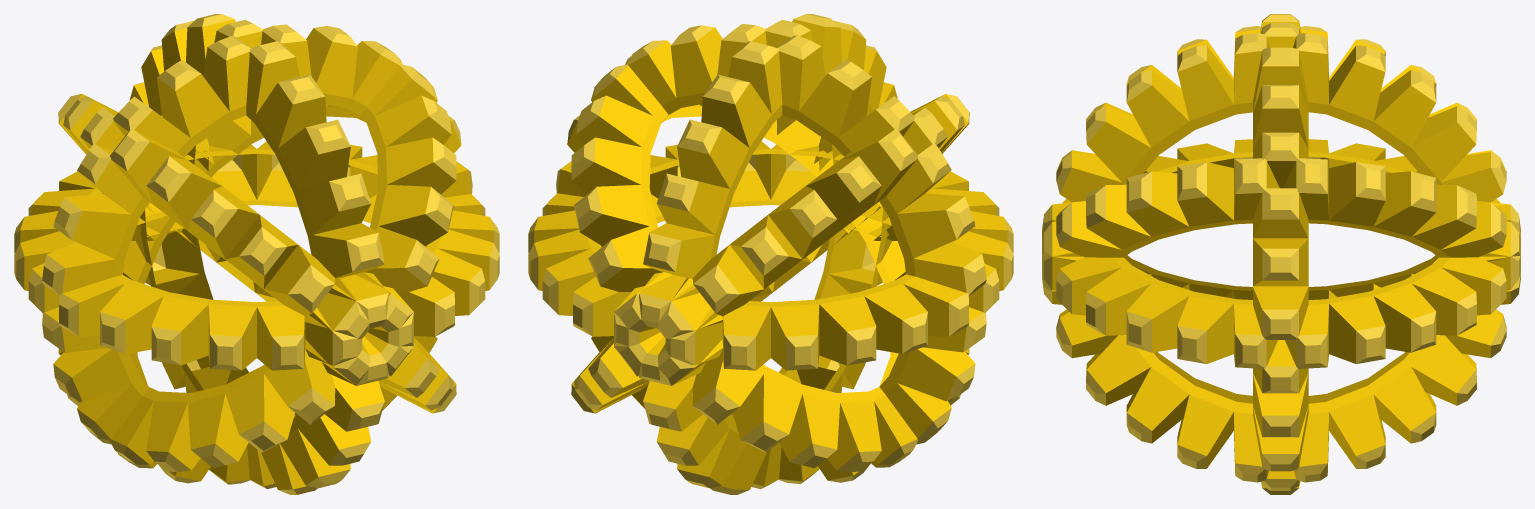
Rendered from Gold.fbx.
The picture shows the model from 3 angles, left to right: view 1: azimuth 30°, elevation 25°; view 2: azimuth 150°, elevation 25°; view 3: azimuth 270°, elevation 25°; orthographic projection.
Visible parts, largest first — view 1: Lv1Gold, Lv2Gold, Lv5Gold, Lv4Gold, Lv3Gold; view 2: Lv1Gold, Lv2Gold, Lv5Gold, Lv4Gold, Lv3Gold; view 3: Lv2Gold, Lv1Gold, Lv5Gold, Lv3Gold, Lv4Gold.
Boxes of the visible parts, box(x1,y1,x2,y2) form: Lv1Gold: box(129, 14, 388, 494); Lv2Gold: box(14, 141, 499, 370); Lv5Gold: box(58, 57, 456, 471); Lv4Gold: box(42, 24, 472, 484); Lv3Gold: box(58, 94, 456, 413); Lv1Gold: box(639, 14, 897, 494); Lv2Gold: box(528, 141, 1013, 370); Lv5Gold: box(571, 56, 969, 471); Lv4Gold: box(556, 24, 986, 484); Lv3Gold: box(571, 94, 969, 413); Lv2Gold: box(1042, 139, 1520, 368); Lv1Gold: box(1042, 33, 1520, 444); Lv5Gold: box(1042, 158, 1520, 299); Lv3Gold: box(1042, 26, 1520, 482); Lv4Gold: box(1253, 14, 1308, 494).
Size of the model in its own units: 1460 by 1460 by 1460.
